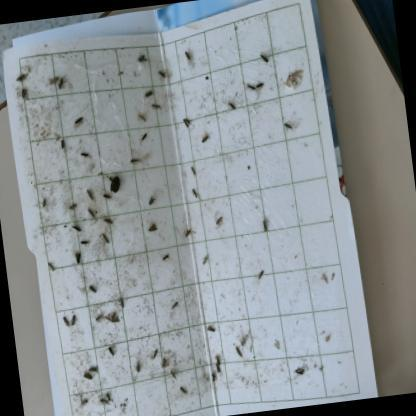prays_oleae: (279, 64, 310, 93), (100, 304, 122, 330), (195, 127, 215, 149), (255, 43, 272, 68), (254, 262, 270, 288), (130, 356, 148, 378), (144, 214, 160, 238), (202, 318, 219, 340), (80, 144, 96, 167), (258, 212, 272, 237), (68, 309, 82, 333), (71, 111, 88, 130), (84, 180, 96, 206), (80, 366, 94, 388), (136, 48, 150, 70), (289, 364, 308, 380), (56, 76, 68, 100), (115, 290, 128, 312), (142, 80, 157, 99), (281, 117, 295, 137), (71, 247, 85, 267), (104, 339, 118, 359), (46, 257, 58, 280), (64, 196, 81, 212), (244, 77, 258, 96), (159, 350, 171, 372), (100, 184, 112, 206), (167, 364, 181, 382), (147, 340, 158, 362), (138, 126, 150, 146), (13, 68, 29, 83), (187, 184, 201, 201), (86, 202, 96, 225), (66, 218, 82, 232), (226, 99, 239, 116), (255, 75, 266, 95), (233, 342, 244, 362), (156, 64, 168, 82), (61, 312, 70, 336), (158, 250, 173, 264), (98, 231, 108, 252), (88, 358, 100, 375), (182, 225, 195, 240), (129, 151, 142, 166), (102, 211, 114, 227), (85, 282, 97, 298), (90, 309, 102, 325), (149, 99, 162, 113), (212, 213, 224, 228), (79, 232, 91, 247), (200, 251, 209, 270), (207, 368, 219, 382), (188, 163, 200, 177), (182, 44, 194, 58), (176, 383, 188, 397), (214, 352, 224, 368), (168, 300, 180, 313), (145, 194, 157, 205), (138, 108, 146, 124), (20, 86, 29, 100), (214, 361, 220, 377)
